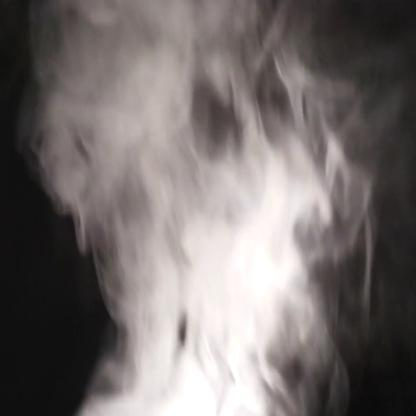smoke: (58, 0, 329, 415)
